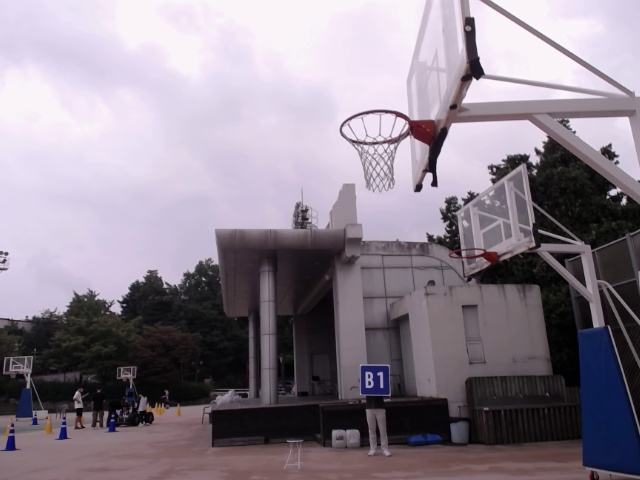delivery_b1: (360, 364, 391, 396)
